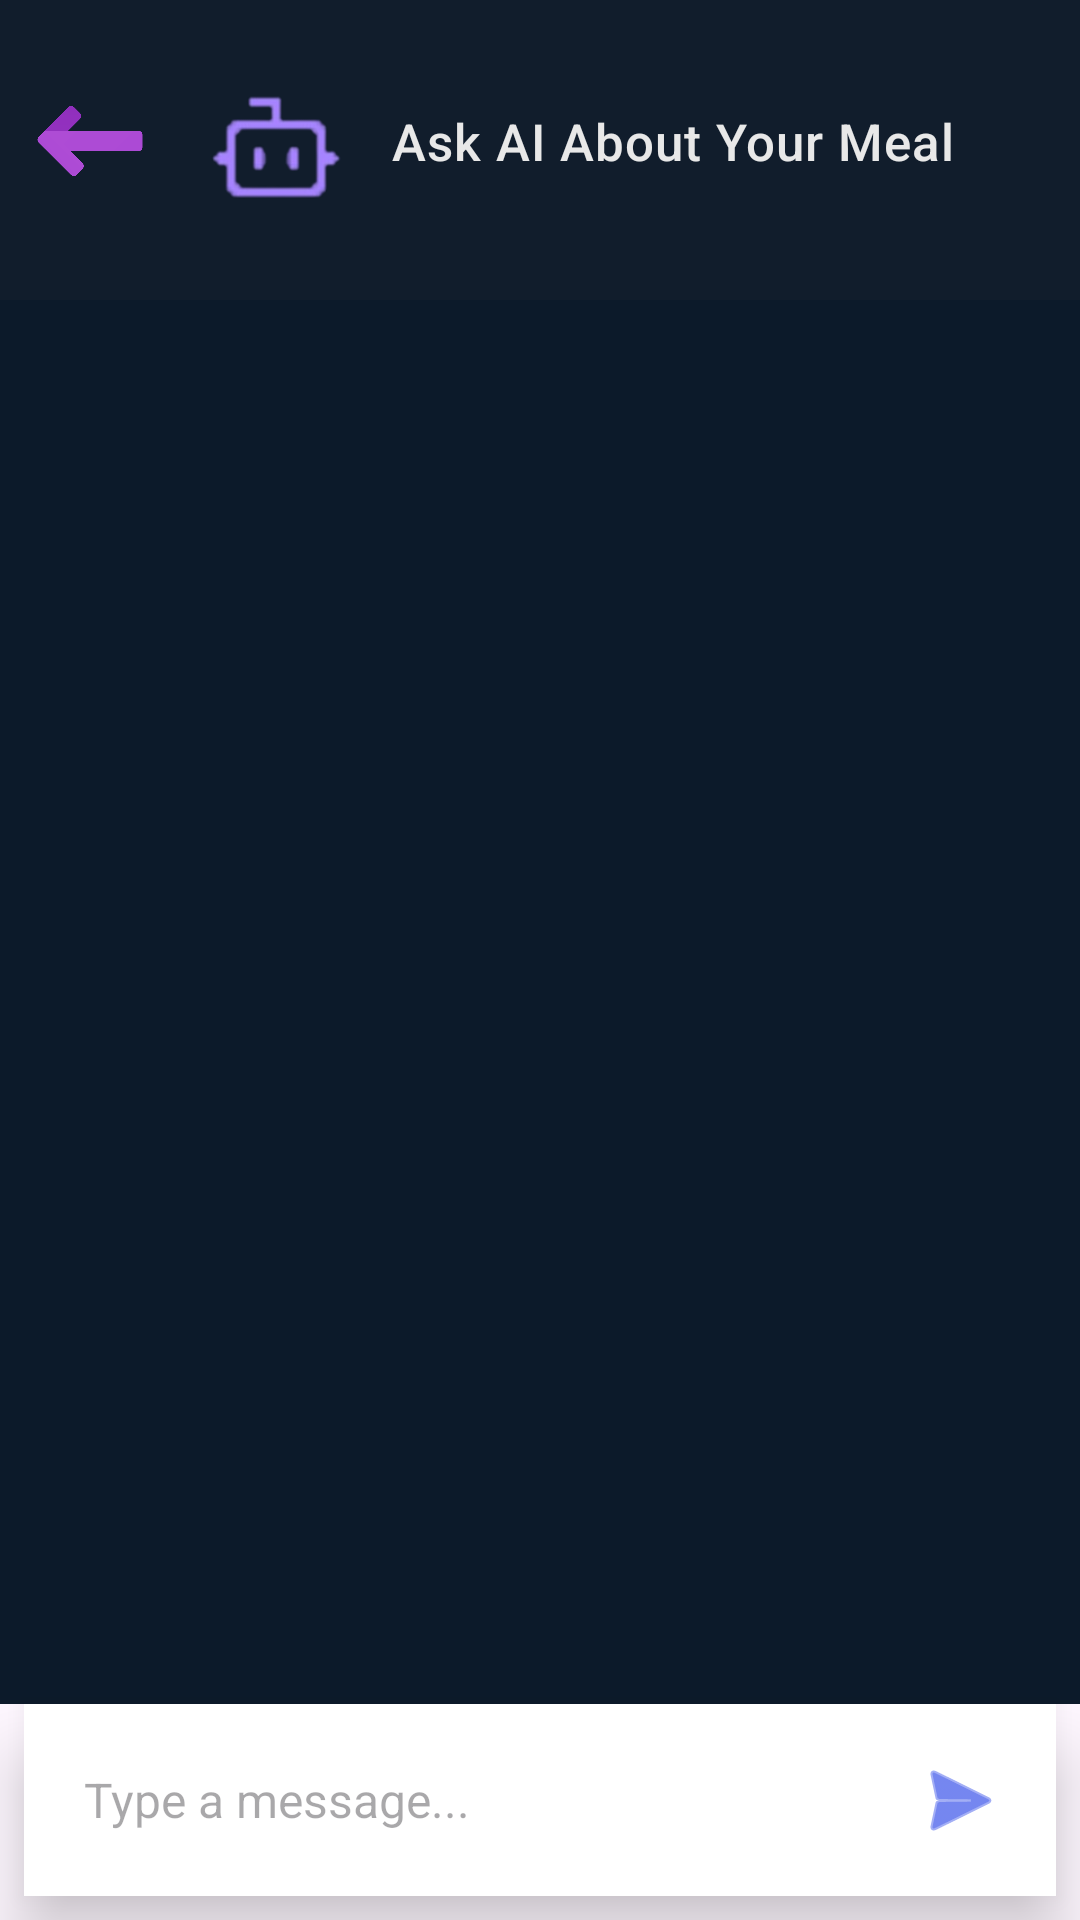

Icons on this 1080px x 1920px Android screen, each with the point to tap as point (x, y):
left arrow: point (90, 141)
robot: point (276, 147)
Send: point (961, 1800)
